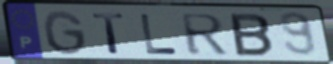9: (279, 10, 319, 61)
B: (227, 12, 275, 59)
G: (41, 9, 89, 57)
L: (139, 12, 180, 56)
R: (178, 13, 230, 57)
T: (90, 12, 128, 56)
